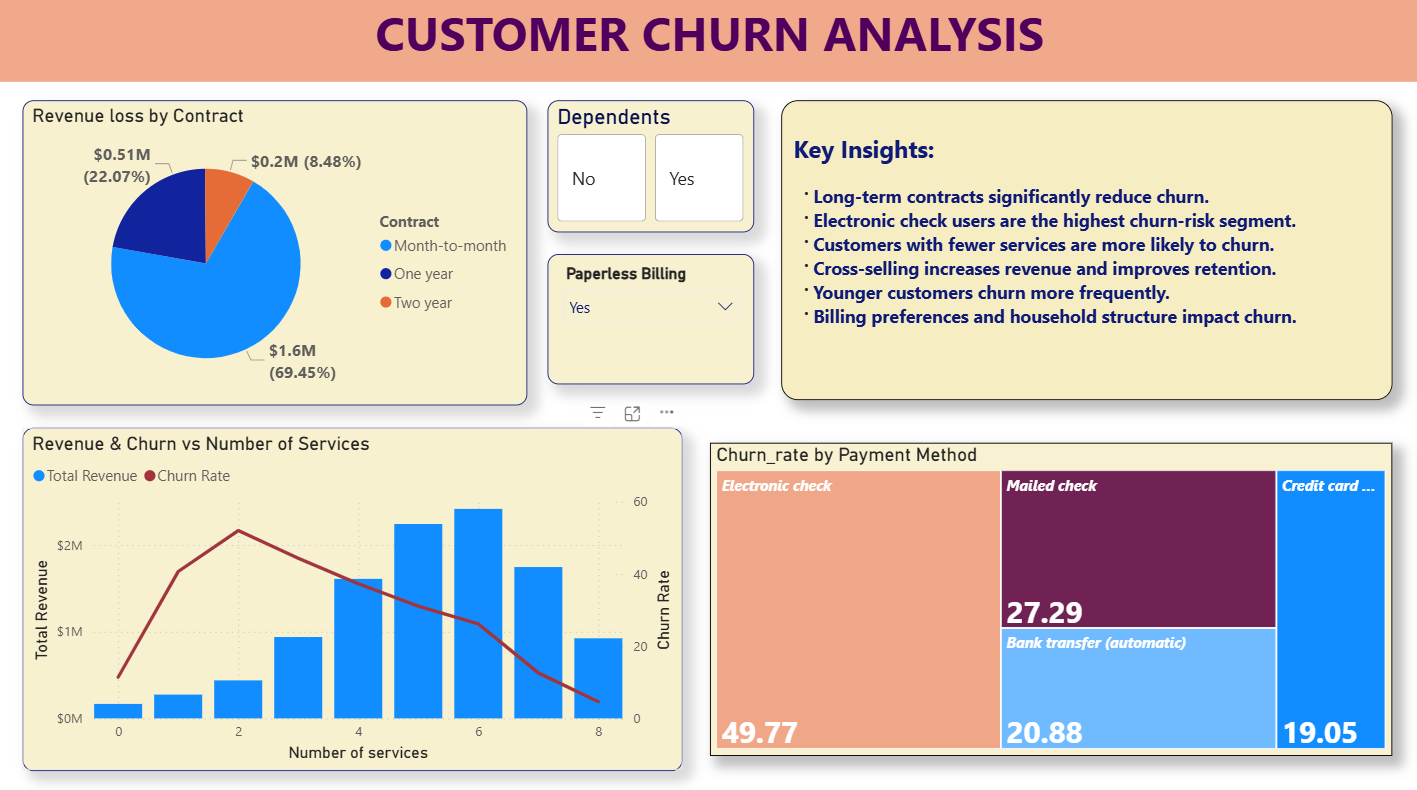

The page's visual inventory and layout, read from the dashboard file:
{"tool":"powerbi","page":{"name":"Page 2","canvas":[1280,720],"ordinal":1},"visuals":[{"type":"textbox","box":[0,0,1280.3,79.6],"z":0},{"type":"lineStackedColumnComboChart","title":"Revenue & Churn vs Number of Services","fields":{"Category":["FactServices.ServiceCount"],"Y":["Sum(FactChurn.TotalCharges)"],"Y2":["FactChurn.Churn_rate"]},"box":[20.6,390.7,594.9,309.8],"z":1000},{"type":"advancedSlicerVisual","fields":{"Values":["DimCustomer.Dependents"]},"box":[493.5,96,186.4,119.3],"z":2000},{"type":"treemap","title":"Churn_rate by Payment Method","fields":{"Group":["FactChurn.PaymentMethod"],"Values":["FactChurn.Churn_rate"]},"box":[640.1,404.4,615.5,282.4],"z":3000},{"type":"pieChart","title":"Revenue loss by Contract","fields":{"Y":["FactChurn.Revenue_lost"],"Category":["FactChurn.Contract"]},"box":[20.6,96,455.1,275.5],"z":4000},{"type":"slicer","fields":{"Values":["FactChurn.PaperlessBilling"]},"box":[493.5,234.4,186.4,117.9],"z":5000},{"type":"textbox","box":[704.6,96,551,270],"z":6000}]}

Visuals, with their boxes in screenshot pixels (x1, y1, x2, y2), scaled from the page's 1280x720 canvas onto the 1417x790 screenshot:
textbox: bbox=[0, 0, 1416, 87]
"Revenue & Churn vs Number of Services" lineStackedColumnComboChart: bbox=[23, 429, 681, 769]
advancedSlicerVisual - DimCustomer.Dependents: bbox=[546, 105, 753, 236]
"Churn_rate by Payment Method" treemap: bbox=[709, 444, 1390, 754]
"Revenue loss by Contract" pieChart: bbox=[23, 105, 527, 408]
slicer - FactChurn.PaperlessBilling: bbox=[546, 257, 753, 387]
textbox: bbox=[780, 105, 1390, 402]
